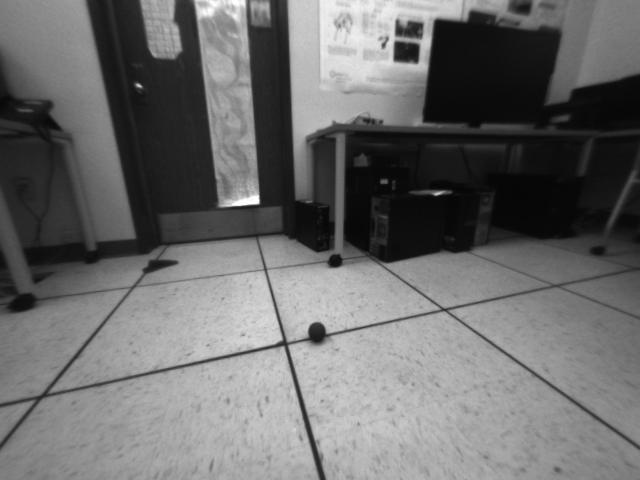dogtoy: (301, 316, 336, 351)
